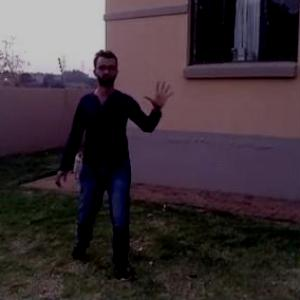follow_hand: (142, 76, 179, 111)
